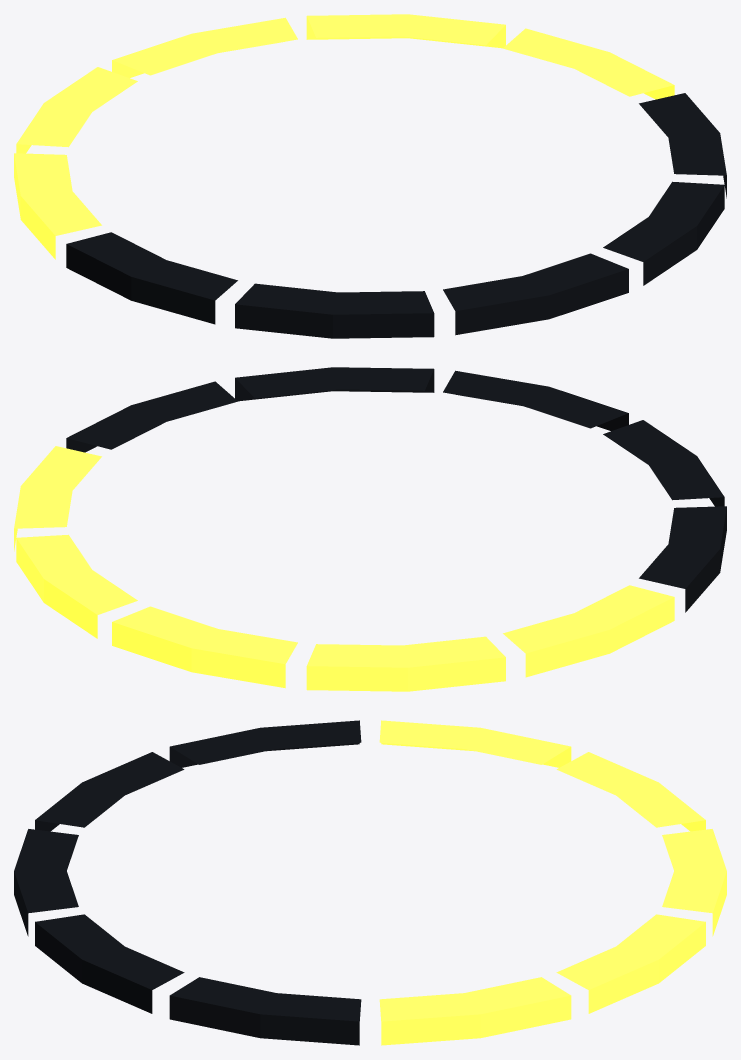
Rendered from hpr_5.glb.
3 renders of one model, top to bottom at view 1: azimuth 30°, elevation 25°; view 2: azimuth 150°, elevation 25°; view 3: azimuth 270°, elevation 25°, orthographic.
Parts seen in each view (by area): view 1: hpr_5; view 2: hpr_5; view 3: hpr_5.
Part boxes in pixels (bbox=[...]): hpr_5: bbox=[14, 14, 726, 338]; hpr_5: bbox=[14, 367, 726, 691]; hpr_5: bbox=[14, 720, 726, 1045].
Bounding box in the file's own units: 2.16 × 0.08 × 2.16.
